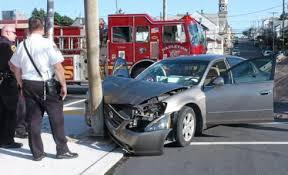bonnet-dent: (99, 68, 174, 104)
front-bumper-dent: (104, 111, 165, 147)
